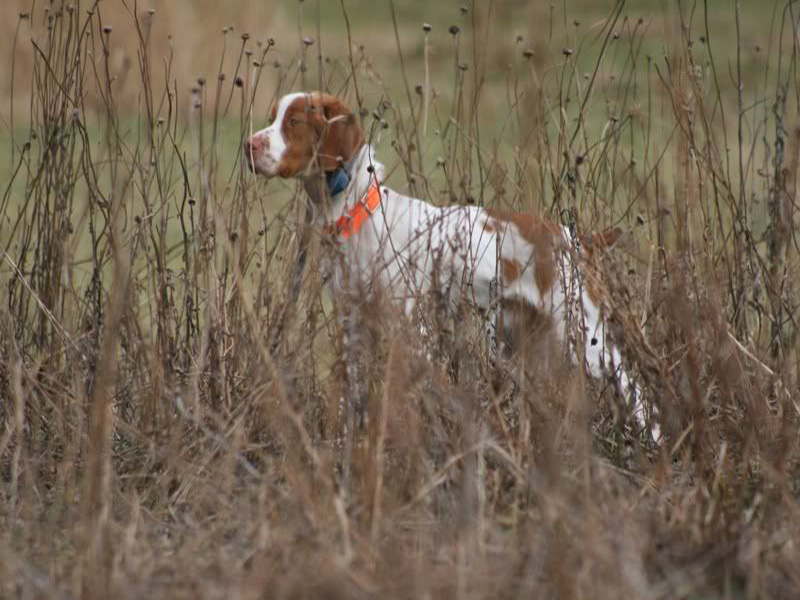cane da caccia: (245, 87, 672, 490)
